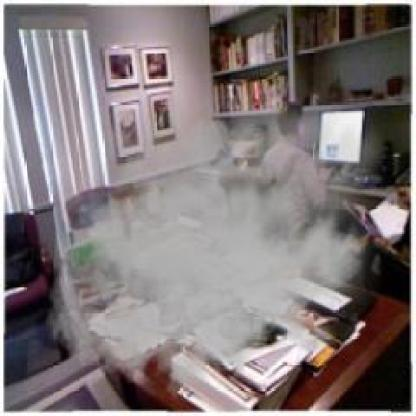Smoke: (46, 62, 396, 411)
